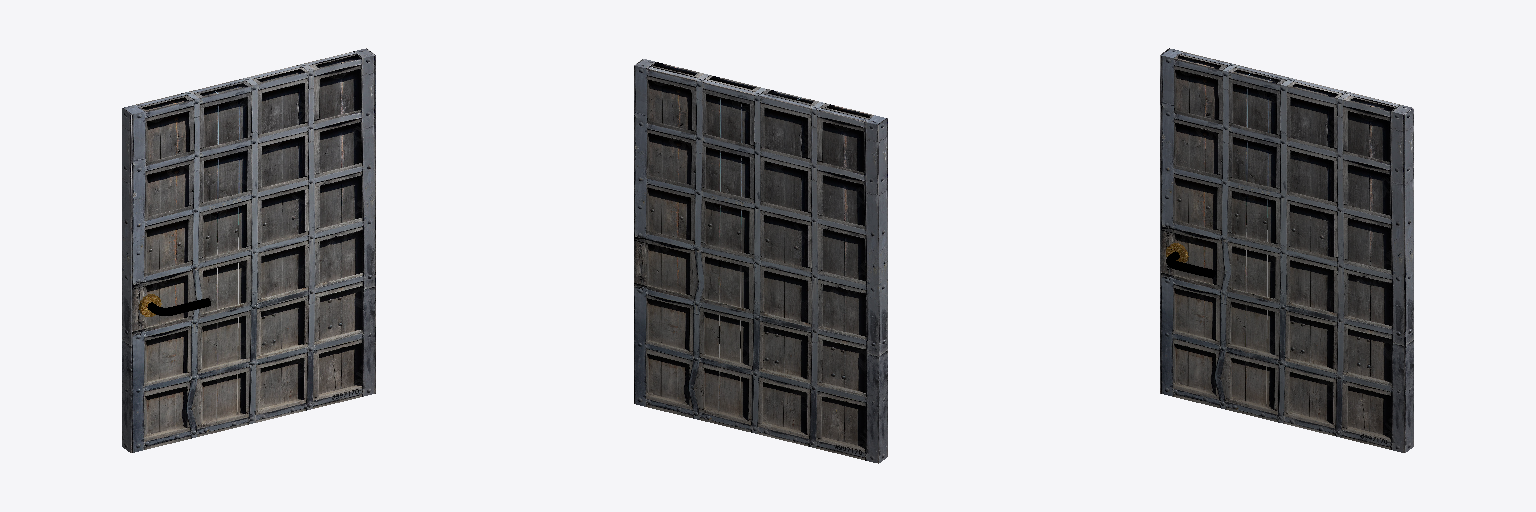
3 renders of one model, left to right at view 1: azimuth 30°, elevation 25°; view 2: azimuth 150°, elevation 25°; view 3: azimuth 330°, elevation 25°, orthographic.
Visible parts, largest first — view 1: pCube35; view 2: pCube35; view 3: pCube35.
Boxes of the visible parts, x1=… form: pCube35: x1=122, y1=48, x2=375, y2=452; pCube35: x1=634, y1=59, x2=887, y2=463; pCube35: x1=1160, y1=48, x2=1413, y2=452.
Size of the model in its own units: 4.5 by 5.93 by 0.7515.
Materials: 3 (2 with a texture image).